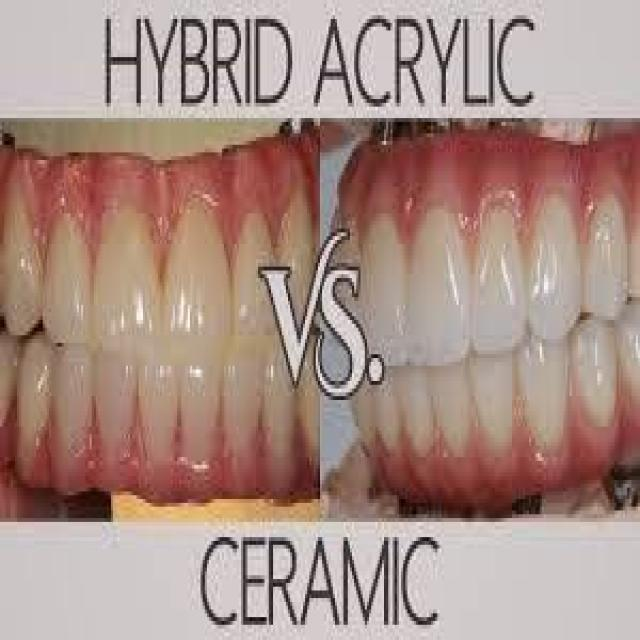tooth: (168, 168, 232, 350), (409, 194, 472, 373), (92, 194, 164, 347), (476, 190, 525, 362), (532, 187, 582, 343), (42, 198, 92, 354), (570, 304, 623, 446), (367, 202, 410, 377), (237, 202, 279, 347), (467, 346, 516, 464), (587, 194, 629, 328), (49, 343, 96, 461), (181, 339, 226, 457), (524, 335, 570, 450), (224, 347, 265, 476), (17, 328, 53, 468), (141, 343, 179, 465), (264, 347, 298, 480), (431, 350, 471, 461), (96, 339, 134, 453), (399, 354, 437, 465)
